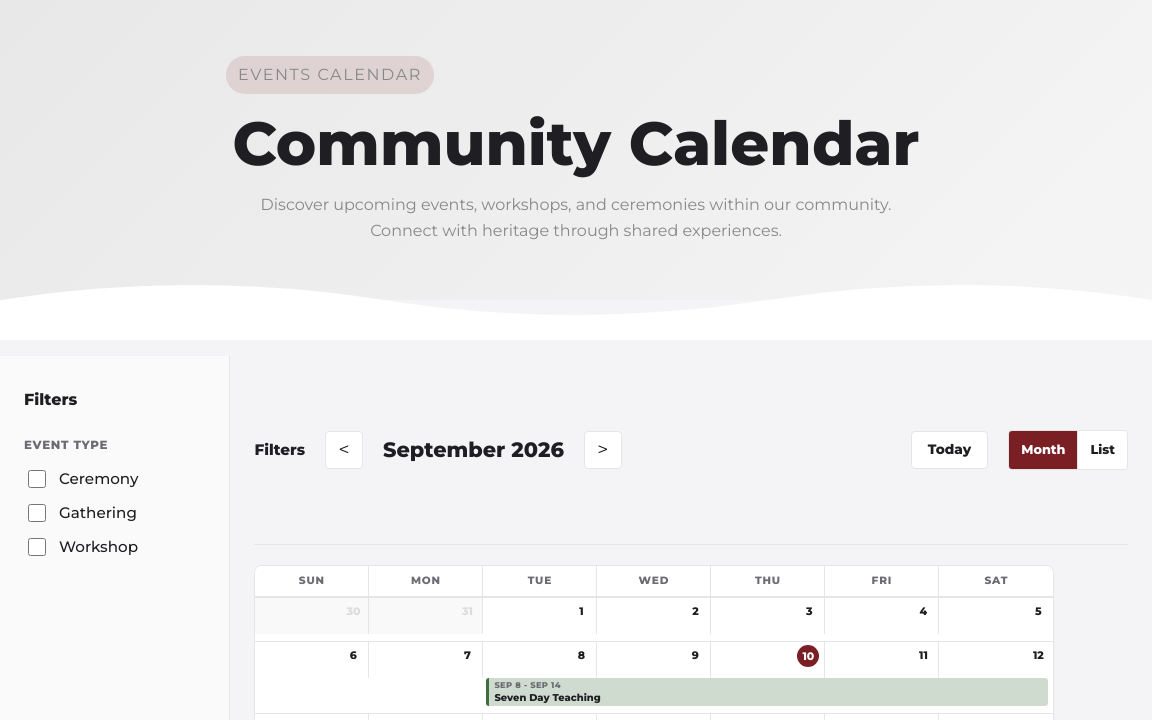
Test: EventCalendarPage › filters events by category
Click the checkbox labelled "Ceremony" at (37, 479), box [28, 470, 46, 488]
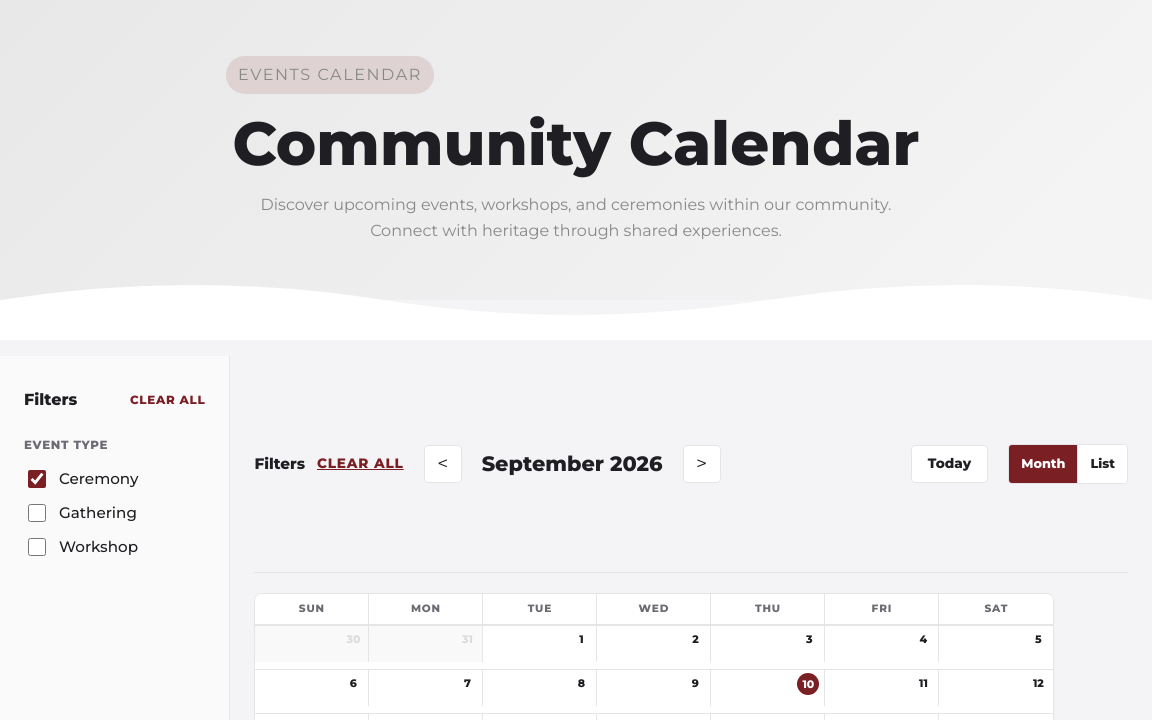
Now the number of buttons "Clear All" is 2, box [130, 391, 205, 409]; [317, 453, 404, 474]
